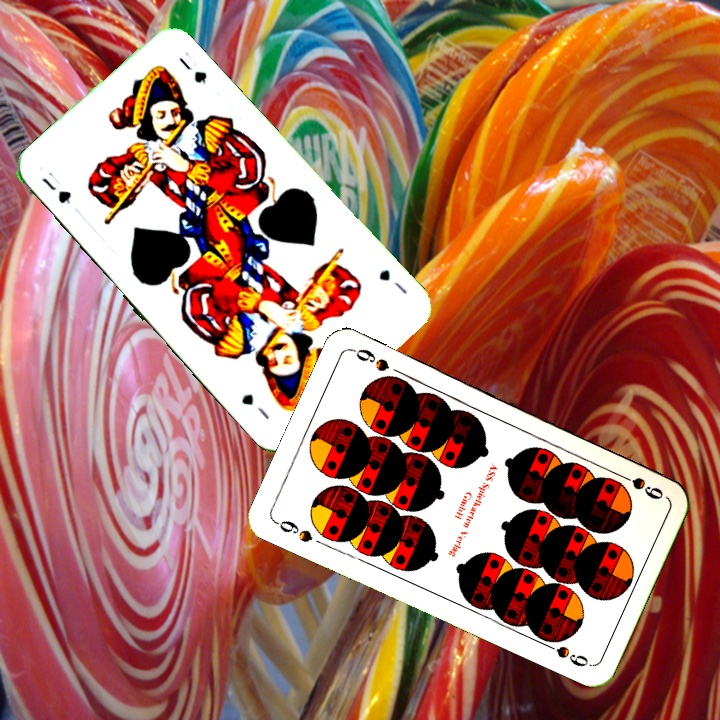GU: (37, 174, 74, 207), (375, 265, 410, 298)
S9: (611, 468, 666, 502), (270, 516, 315, 545)
